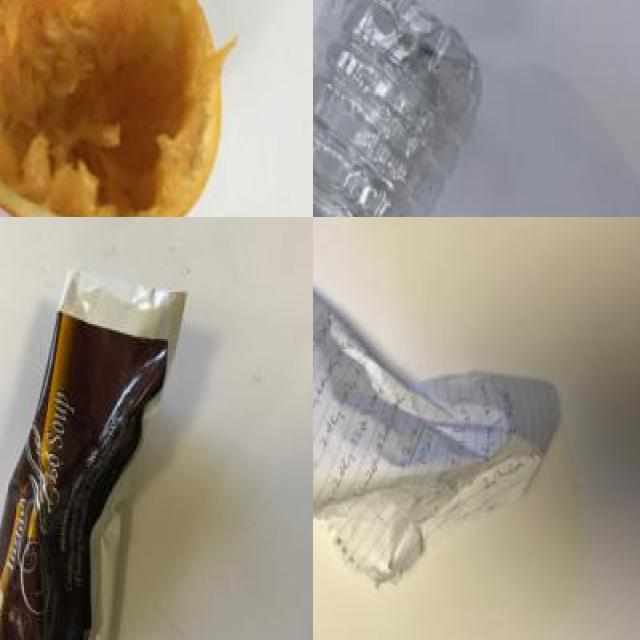compost: (0, 0, 239, 217)
paper: (313, 217, 571, 608)
plastic: (313, 0, 475, 217)
trash: (0, 254, 211, 640)
